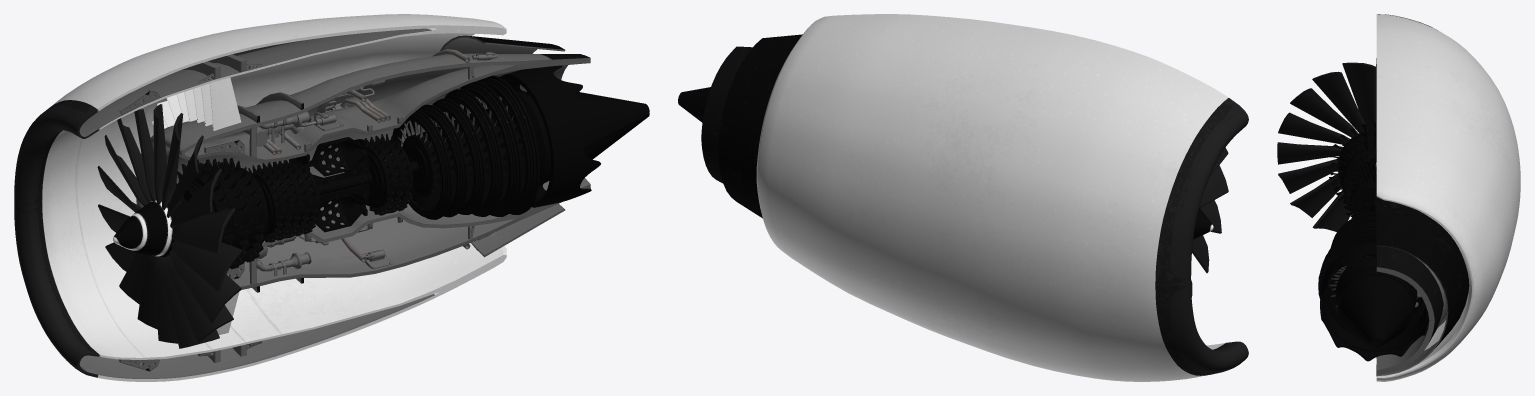
The model's file is cfm56-5b.glb.
3 renders of one model, left to right at view 1: azimuth 30°, elevation 25°; view 2: azimuth 150°, elevation 25°; view 3: azimuth 270°, elevation 25°, orthographic. The views are drawn at different scales.
Parts seen in each view (by area): view 1: Object_2, Object_0, Object_3, Object_1; view 2: Object_2, Object_0, Object_3; view 3: Object_2, Object_0, Object_3, Object_1.
Boxes of the visible parts, box(x1,y1,x2,y2) form: Object_2: box(14, 14, 590, 381); Object_0: box(97, 81, 525, 348); Object_3: box(291, 65, 649, 232); Object_1: box(414, 75, 539, 214); Object_2: box(701, 14, 1248, 381); Object_0: box(1191, 147, 1228, 297); Object_3: box(678, 87, 710, 122); Object_2: box(1375, 14, 1520, 381); Object_0: box(1277, 58, 1421, 309); Object_3: box(1320, 177, 1429, 361); Object_1: box(1318, 233, 1425, 331).
Size of the model in its own units: 13.97 by 7.48 by 6.33.
3 materials, 3 textured.
